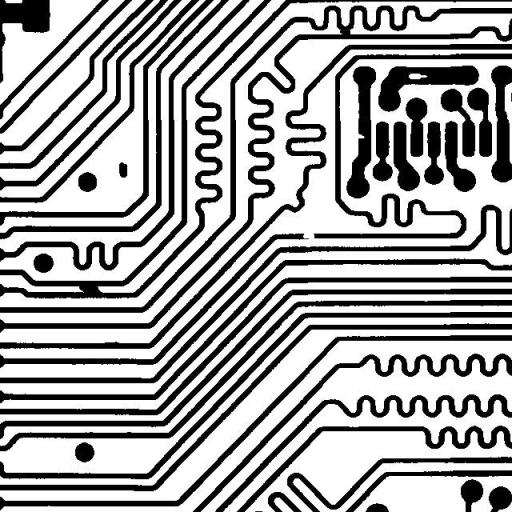copper: (112, 154, 134, 185)
mousebite: (349, 126, 372, 146)
open: (295, 224, 322, 246)
pin-hole: (401, 66, 434, 86)
short: (71, 274, 109, 302), (332, 20, 358, 44)
